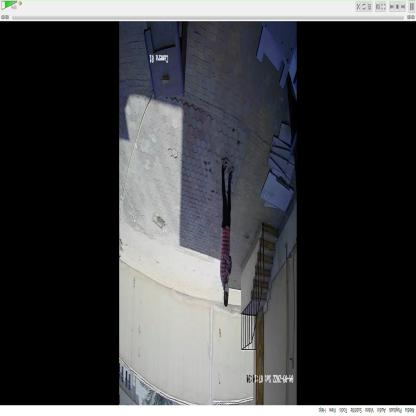handgun: (223, 253, 234, 278)
